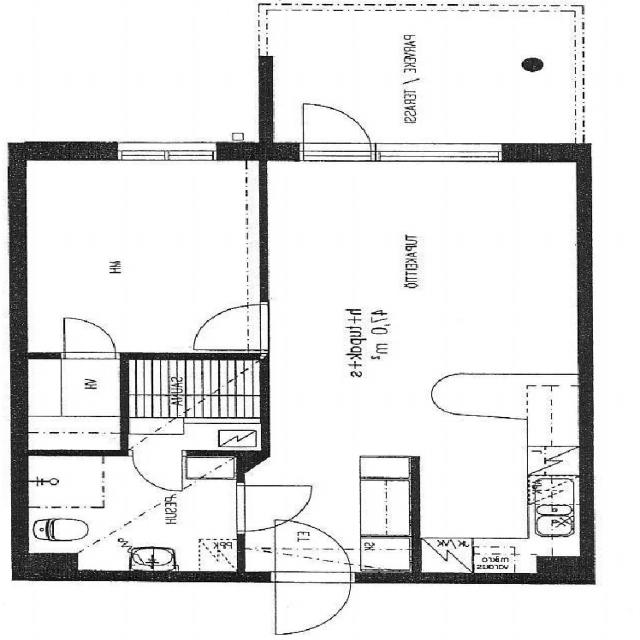door: (276, 571, 352, 634), (276, 520, 352, 582), (304, 96, 372, 160), (195, 304, 270, 350), (238, 485, 313, 530), (66, 318, 115, 358), (134, 450, 182, 488)
